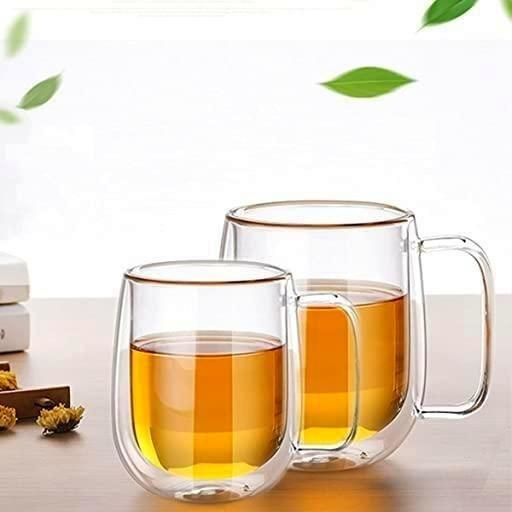glass-mug: (217, 193, 512, 475), (103, 255, 366, 512)
